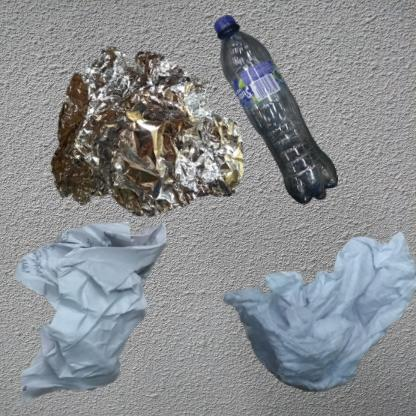aluminio: (10, 10, 287, 284)
botella: (213, 10, 341, 213)
papel: (213, 213, 416, 405), (10, 213, 168, 409)
